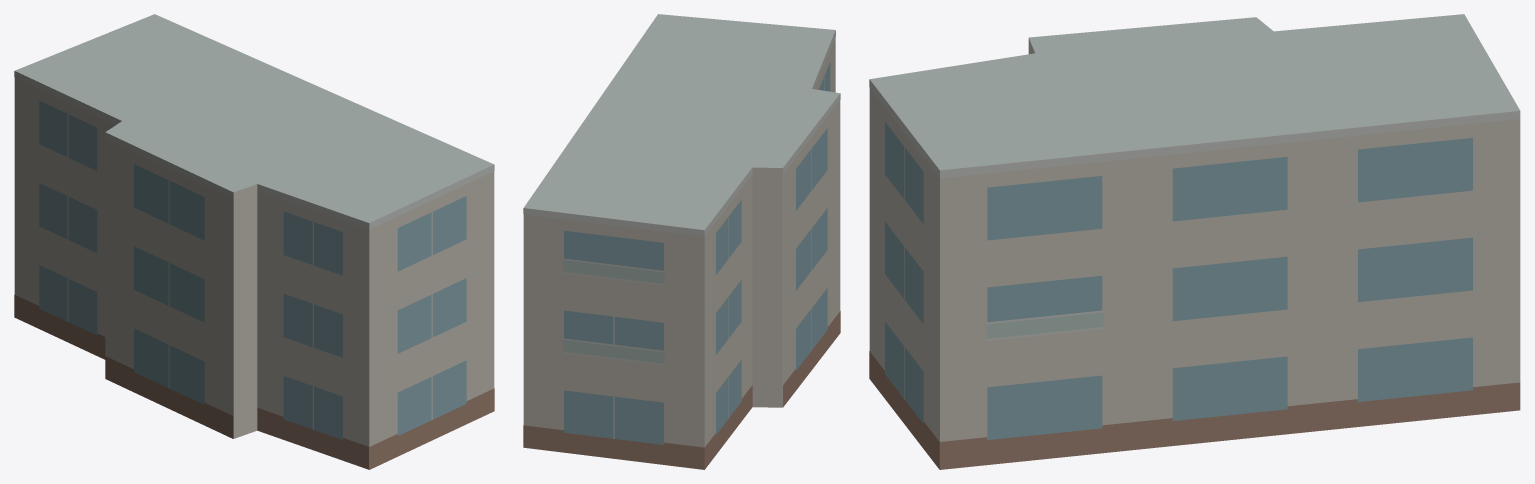
The model's file is survey-upis-32617234.glb.
The picture shows the model from 3 angles, left to right: view 1: azimuth 30°, elevation 25°; view 2: azimuth 150°, elevation 25°; view 3: azimuth 270°, elevation 25°; orthographic projection. The views are drawn at different scales.
Parts seen in each view (by area): view 1: survey-upis-32617234.tmp; view 2: survey-upis-32617234.tmp; view 3: survey-upis-32617234.tmp.
Boxes of the visible parts, bbox=[...] form: survey-upis-32617234.tmp: bbox=[14, 14, 494, 469]; survey-upis-32617234.tmp: bbox=[523, 14, 840, 469]; survey-upis-32617234.tmp: bbox=[869, 14, 1520, 469].
Size of the model in its own units: 10.2 by 9.1 by 17.93.
